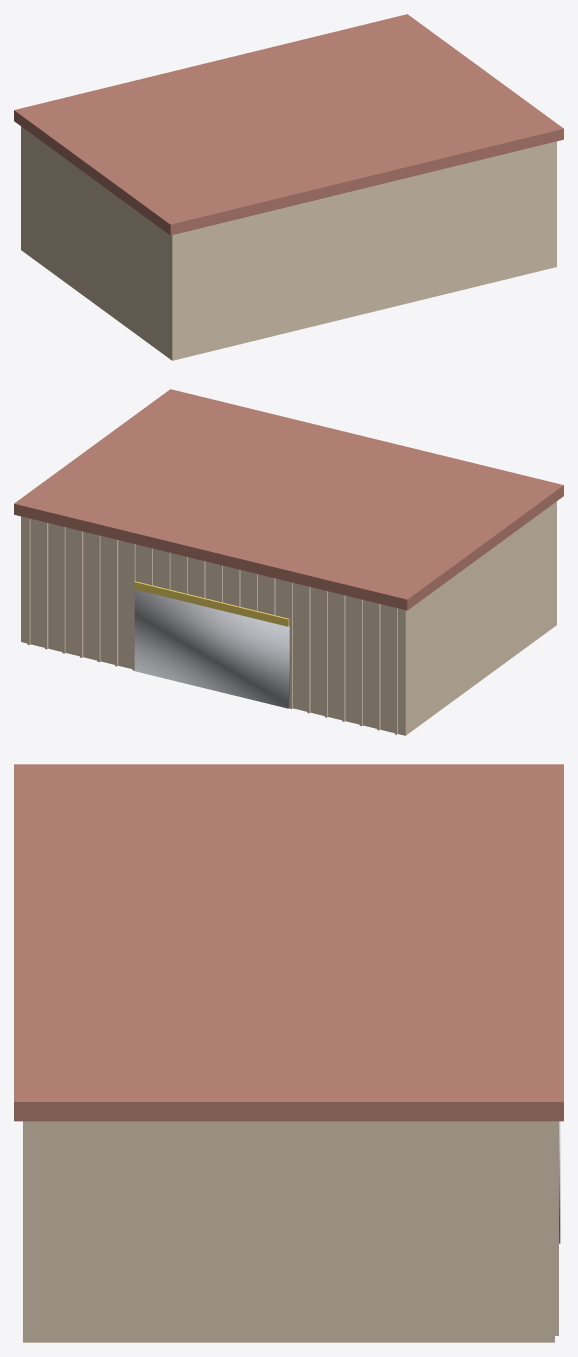
File: B_warehouse.fbx
The picture shows the model from 3 angles, top to bottom: view 1: azimuth 30°, elevation 25°; view 2: azimuth 150°, elevation 25°; view 3: azimuth 270°, elevation 25°; orthographic projection. The views are drawn at different scales.
Visible parts, largest first — view 1: Wall.009, Roof.004; view 2: Roof.004, Wall.009, Metal.008, Yellow.005; view 3: Roof.004, Wall.009.
Part boxes in pixels (x1=…): Wall.009: x1=21, y1=126, x2=556, y2=360; Roof.004: x1=14, y1=14, x2=563, y2=235; Roof.004: x1=14, y1=389, x2=563, y2=610; Wall.009: x1=21, y1=501, x2=556, y2=735; Metal.008: x1=134, y1=589, x2=289, y2=708; Yellow.005: x1=134, y1=581, x2=289, y2=626; Roof.004: x1=14, y1=764, x2=563, y2=1121; Wall.009: x1=23, y1=1121, x2=558, y2=1342.
Size of the model in its own units: 45 by 15.2 by 31.
